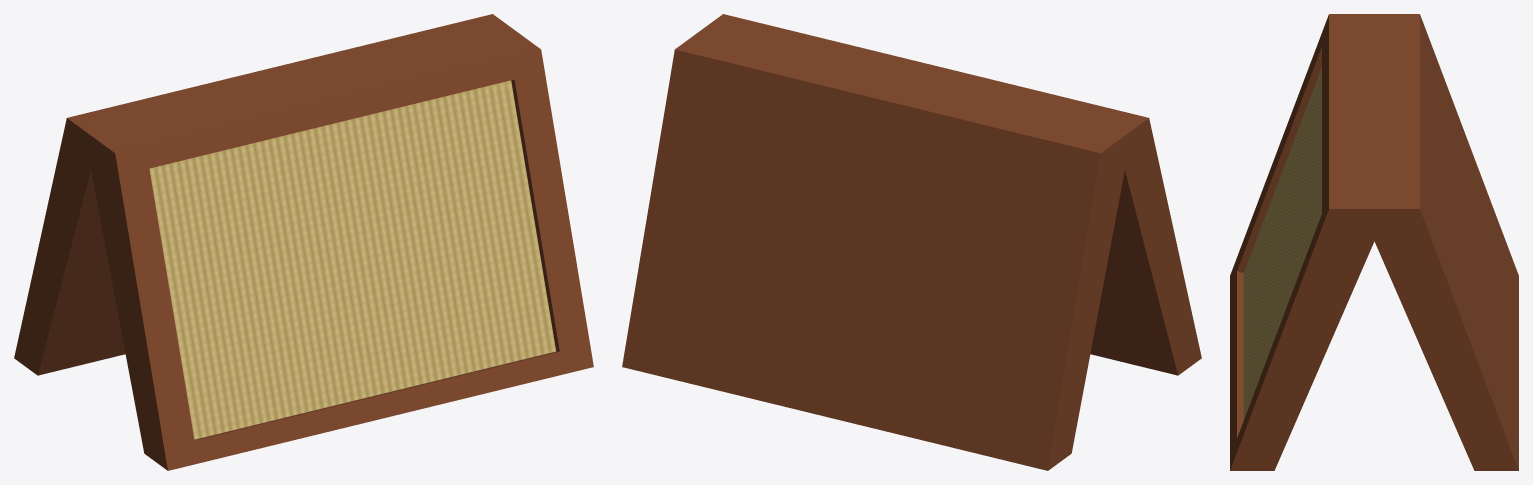
Rendered from MarcoVendedor.fbx.
The picture shows the model from 3 angles, left to right: view 1: azimuth 30°, elevation 25°; view 2: azimuth 150°, elevation 25°; view 3: azimuth 270°, elevation 25°; orthographic projection. The views are drawn at different scales.
Visible parts, largest first — view 1: Marco Vendedor; view 2: Marco Vendedor; view 3: Marco Vendedor.
Part boxes in pixels (x1,y1,x2,y2): Marco Vendedor: (14,14,593,470); Marco Vendedor: (622,14,1201,470); Marco Vendedor: (1230,14,1518,470).
Bounding box in the file's own units: 114 × 71.65 × 71.65.
2 materials, 1 textured.
